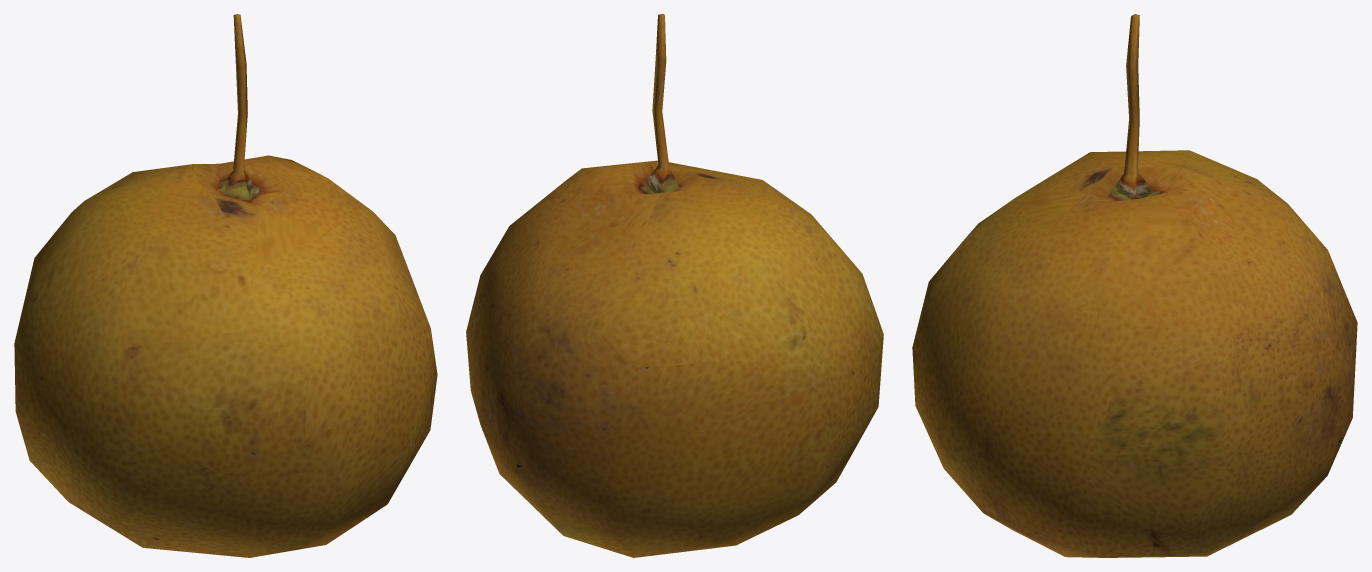
3 views of the same model, side by side, from view 1: azimuth 30°, elevation 25°; view 2: azimuth 150°, elevation 25°; view 3: azimuth 270°, elevation 25° (orthographic). The views are drawn at different scales.
Parts seen in each view (by area): view 1: 74_mandarine; view 2: 74_mandarine; view 3: 74_mandarine.
Boxes of the visible parts, <box> form: 74_mandarine: <box>14,14,437,557</box>; 74_mandarine: <box>466,14,883,557</box>; 74_mandarine: <box>912,14,1357,557</box>.
Size of the model in its own units: 90.89 by 120 by 94.12.
